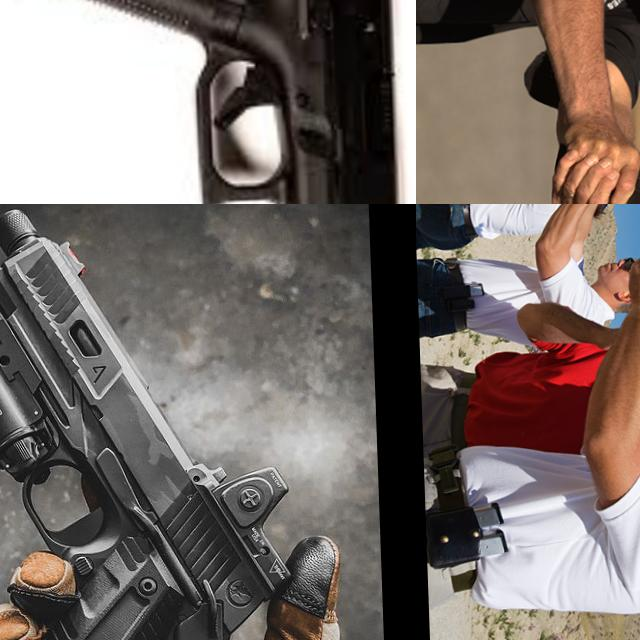handgun: (0, 204, 305, 640), (0, 0, 416, 204), (594, 142, 640, 204), (607, 204, 636, 236), (565, 204, 584, 224)
